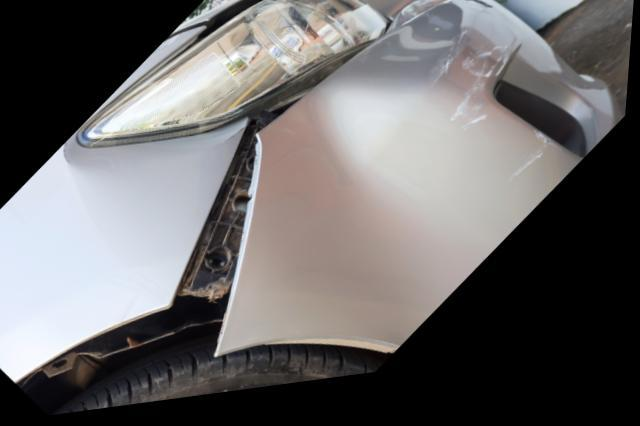dent: (243, 82, 550, 335)
dislocated part: (177, 13, 587, 366), (191, 0, 288, 55)
scratch: (428, 44, 514, 123)
